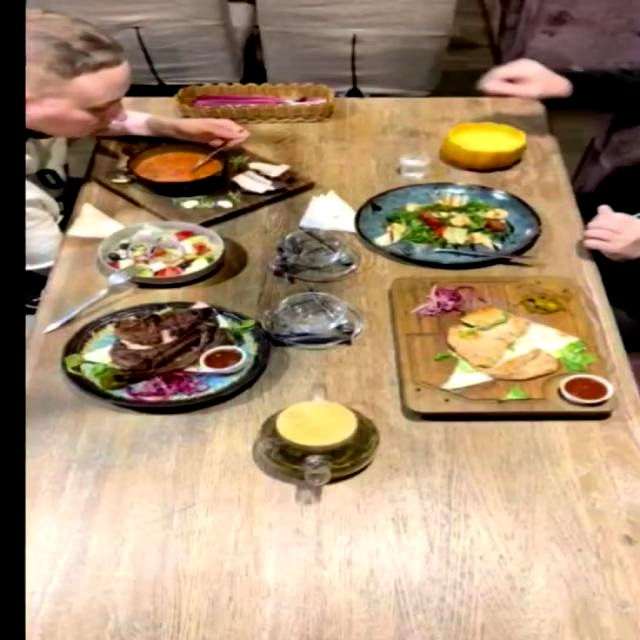meat: (387, 278, 615, 414), (60, 301, 273, 408)
salad: (358, 182, 543, 266), (95, 220, 227, 285)
soup: (91, 134, 317, 226), (441, 121, 528, 170)
tea: (241, 377, 390, 515)
